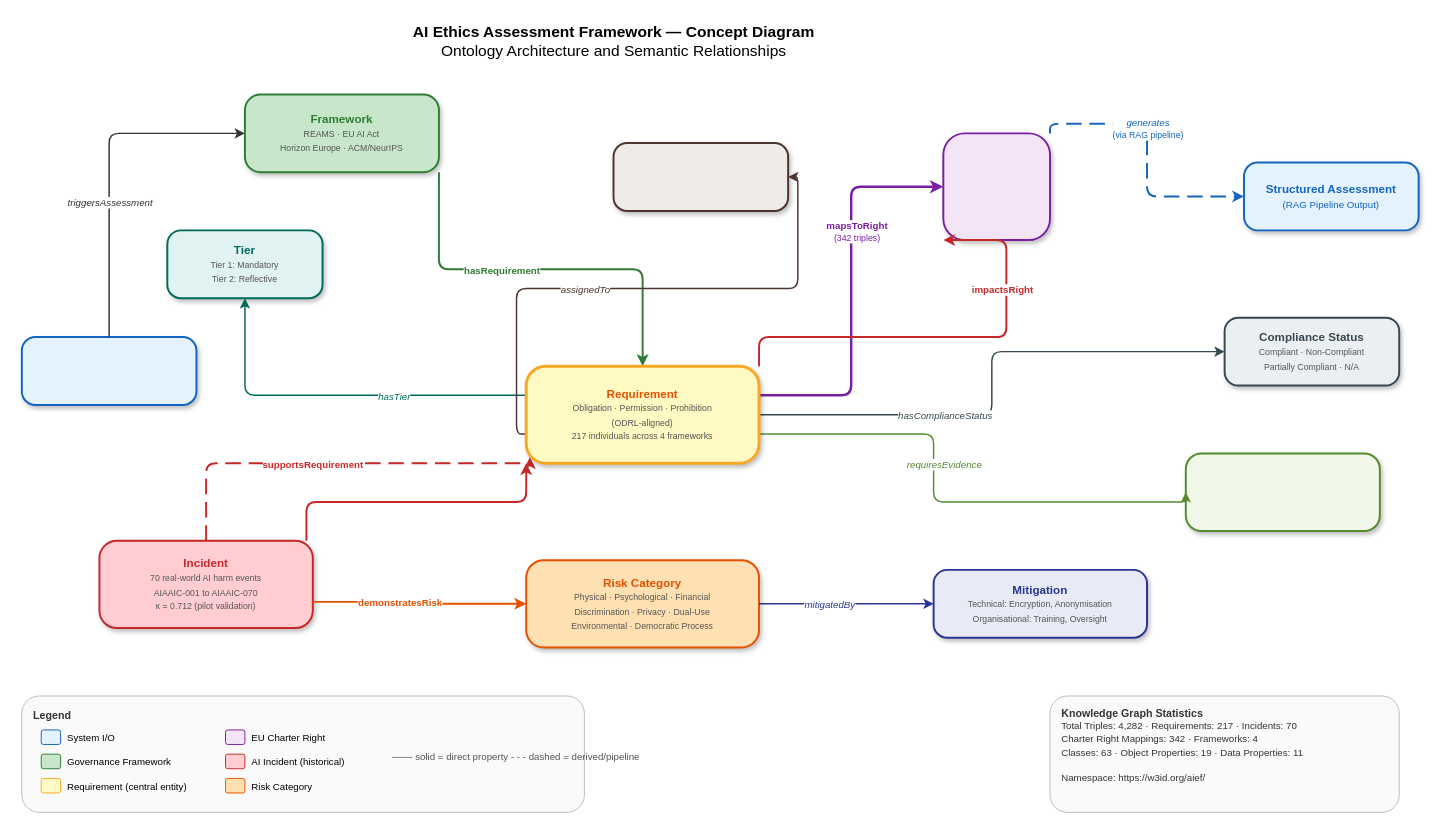
Image size: 1441x829. Some labels were removed from this diagram. The shapes that lost their labels are listed below. From the top down, each one's centre as x and y in pixels, then its label:
At point (701, 178): "Stakeholder Researcher · Supervisor · DPO Ethics Committee · Participant".
At point (997, 187): "EU Charter Right 20 Articles across 6 Titles DPV EU Rights aligned (Art 1–48)".
At point (109, 372): "Research Proposal (System Input)".
At point (1283, 493): "Evidence DPIA · FRIA · Consent Form Model Card · DataSheet Ethics Approval".
